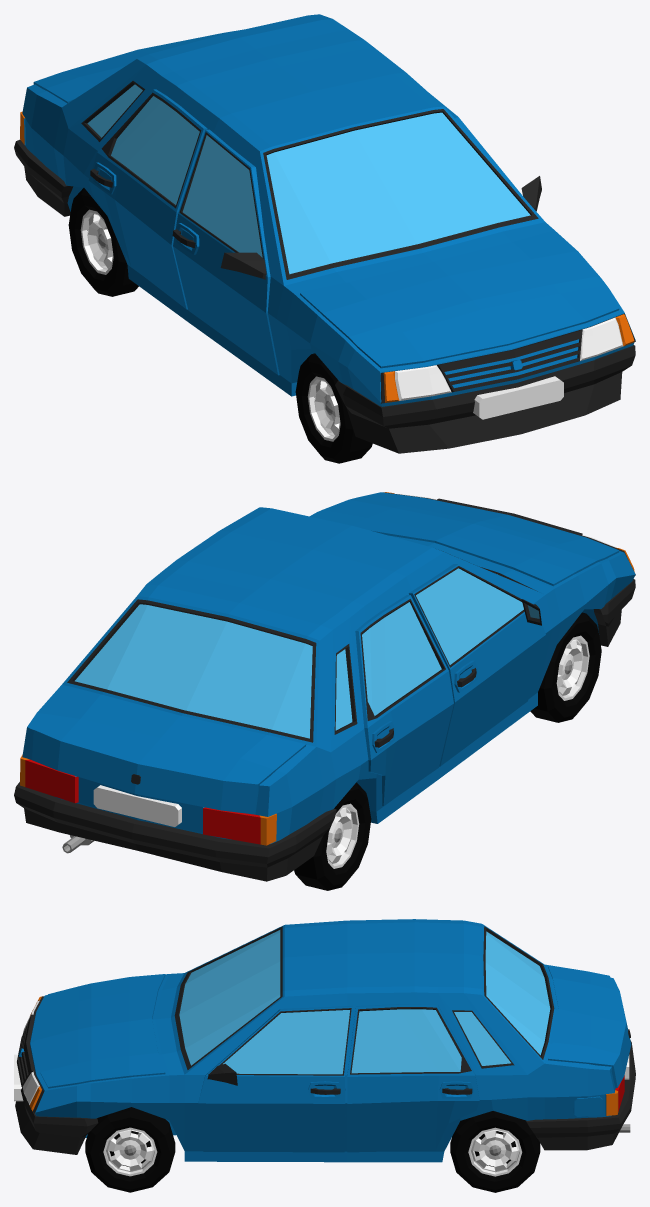
The model's file is car_5_blue.fbx.
3 views of the same model, one above another, from view 1: azimuth 30°, elevation 25°; view 2: azimuth 150°, elevation 25°; view 3: azimuth 270°, elevation 25° (orthographic). The views are drawn at different scales.
Parts seen in each view (by area): view 1: lada_21099, Front_Right_Wheel.002, Rear_Right_Wheel.001; view 2: lada_21099, Front_Right_Wheel.002, Rear_Right_Wheel.001; view 3: lada_21099, Front_Left_Wheel.002, Rear_Left_Wheel.001.
Boxes of the visible parts, <box> form: lada_21099: <box>14,14,635,453</box>; Front_Right_Wheel.002: <box>295,353,372,463</box>; Rear_Right_Wheel.001: <box>68,188,138,296</box>; lada_21099: <box>14,492,635,881</box>; Front_Right_Wheel.002: <box>530,612,601,722</box>; Rear_Right_Wheel.001: <box>294,782,371,890</box>; lada_21099: <box>14,919,635,1162</box>; Front_Left_Wheel.002: <box>85,1107,175,1192</box>; Rear_Left_Wheel.001: <box>450,1111,540,1192</box>.
Bounding box in the file's own units: 206 × 148 × 432.
